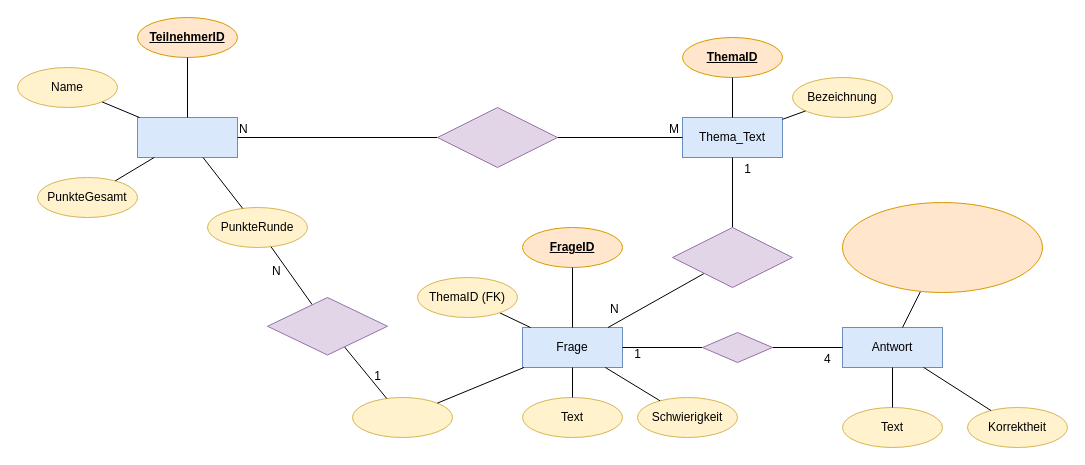
Some shapes in this 1085 by 465 pixel diagram are drawn without their labels. Here are the shapes that lost their labels. From the top down, the box of each, then its label:
(136, 116, 238, 158): Teilnehmer
(436, 106, 558, 168): angeben
(672, 226, 792, 288): generiert
(842, 202, 1042, 292): PK_FrageBuchstabe (FrageID (FK), Buchstabe)
(266, 296, 388, 355): wird hinzugefügt
(702, 332, 772, 362): hat
(352, 396, 452, 438): Punktewert
